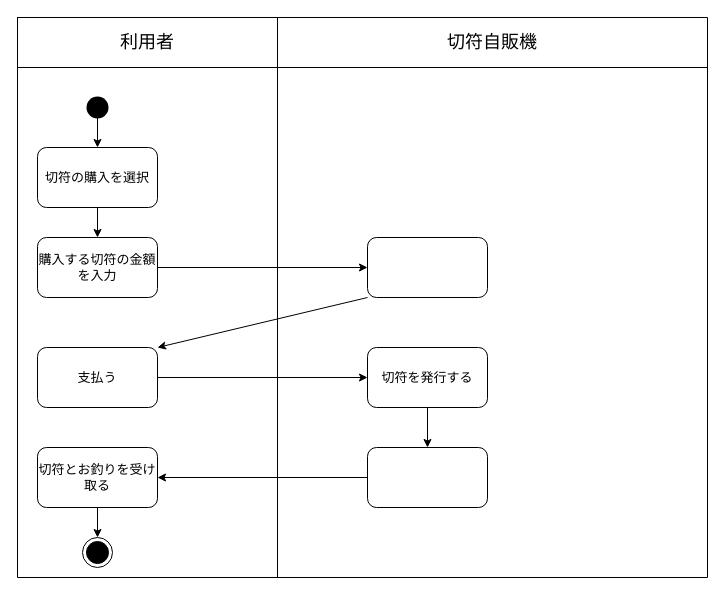
Image size: 725x595. Some labels were removed from this diagram. The shapes that lost their labels are listed below. From the top down, each one's centre as x and y in pixels, then its label:
pixel 427 267: 切符の金額と入金を促す表示を出力
pixel 427 477: お釣りを清算して、現金を用意する
